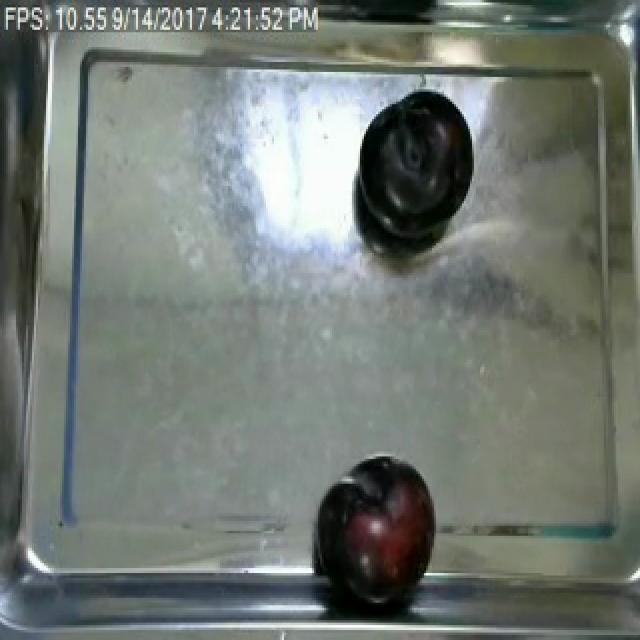Fruit: (352, 92, 478, 243), (314, 454, 442, 598)
